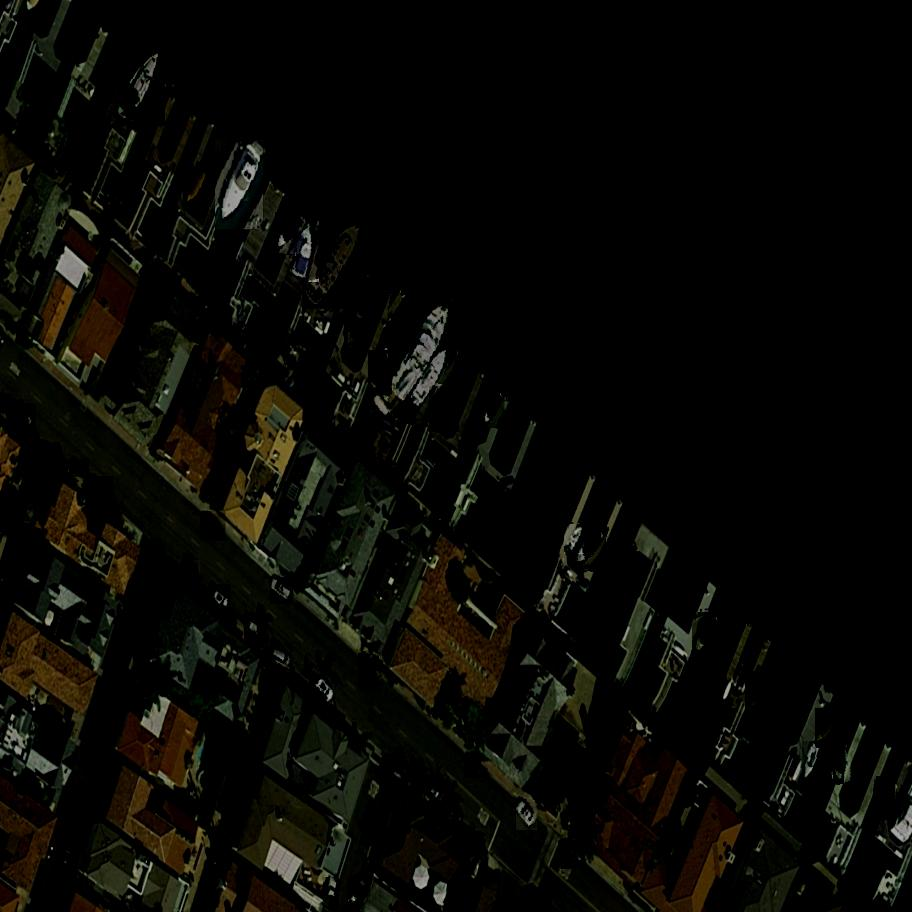ship: (367, 289, 466, 424), (298, 209, 376, 311), (211, 140, 269, 229), (113, 44, 168, 127), (410, 342, 459, 407), (291, 221, 321, 282), (570, 526, 611, 570), (427, 386, 463, 433), (691, 613, 725, 659), (273, 212, 309, 254), (182, 167, 213, 212), (744, 671, 774, 715), (367, 351, 395, 395), (343, 306, 369, 353), (814, 709, 844, 749), (479, 388, 508, 428), (801, 741, 823, 784), (876, 776, 897, 820), (563, 524, 587, 555), (833, 741, 844, 783)
small-vehicle: (416, 777, 453, 808), (355, 653, 384, 692), (307, 674, 338, 708), (555, 840, 590, 870), (197, 511, 230, 542), (239, 617, 272, 646), (7, 404, 41, 432), (513, 797, 541, 831), (346, 877, 373, 911), (206, 584, 235, 614), (90, 476, 118, 506), (268, 577, 298, 604), (267, 644, 297, 670), (460, 756, 491, 778), (178, 560, 204, 584), (323, 877, 340, 912), (59, 849, 76, 880), (66, 459, 92, 478), (78, 793, 91, 824)
